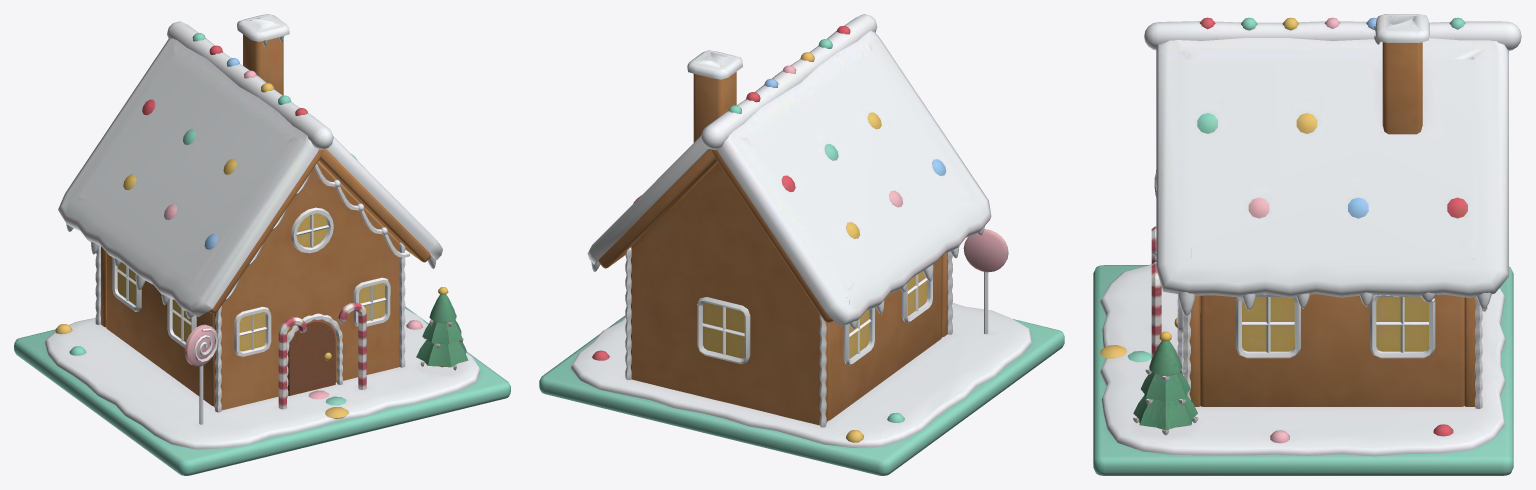
File: casita_jengibre.glb
3 views of the same model, side by side, from view 1: azimuth 30°, elevation 25°; view 2: azimuth 150°, elevation 25°; view 3: azimuth 270°, elevation 25° (orthographic). The views are drawn at different scales.
Parts seen in each view (by area): view 1: gingerbread-house_body; view 2: gingerbread-house_body; view 3: gingerbread-house_body.
Boxes of the visible parts, box(x1,y1,x2,y2) form: gingerbread-house_body: box(14, 14, 510, 475); gingerbread-house_body: box(539, 14, 1064, 475); gingerbread-house_body: box(1093, 14, 1521, 475).
Size of the model in its own units: 0.4 by 0.3632 by 0.3669.
Materials: 1 (1 with a texture image).
